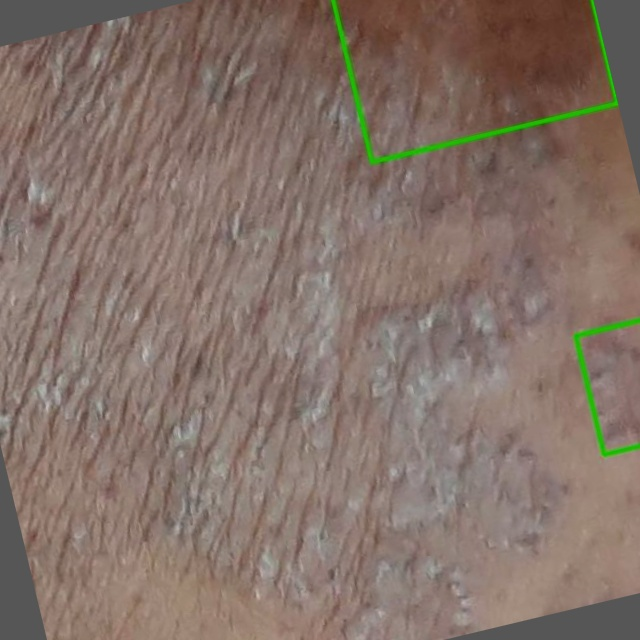Tinea Corporis: (333, 0, 617, 162), (576, 320, 639, 454)
